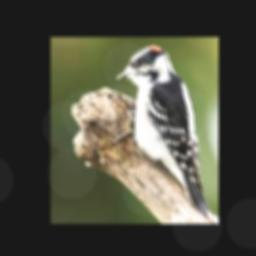Woodpecker: (109, 44, 215, 217)
